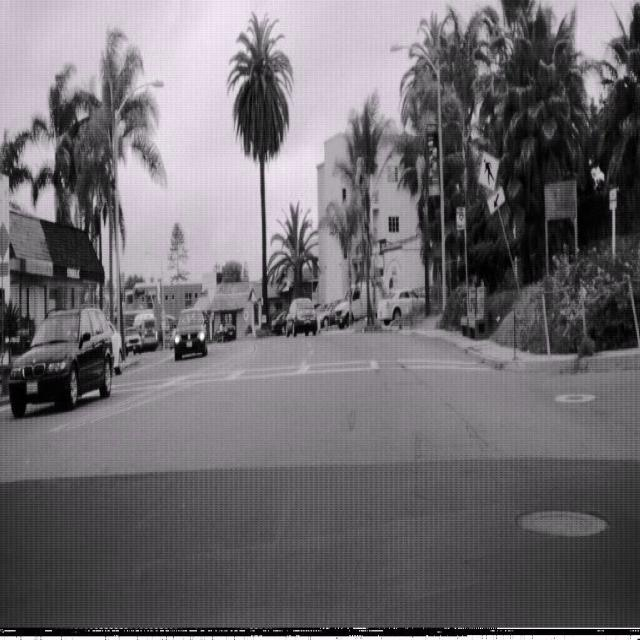pedestrianCrossing: (478, 148, 499, 192)
